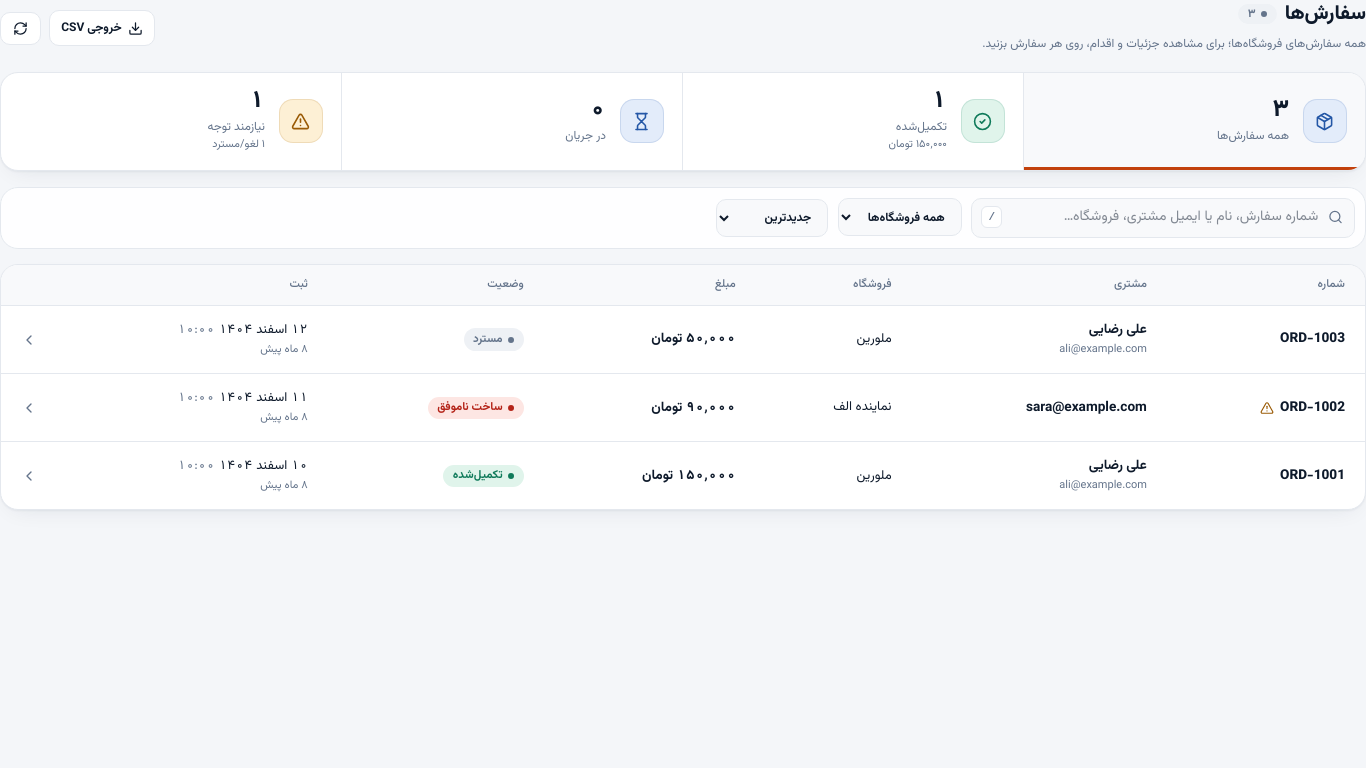
Test case: orders screen › offers only the actions the state machine allows
What coordinates should you click on to do the following:
click the text "ORD-1002"
I would click on:
 (1313, 408)
Its box is [1280,398,1345,418].
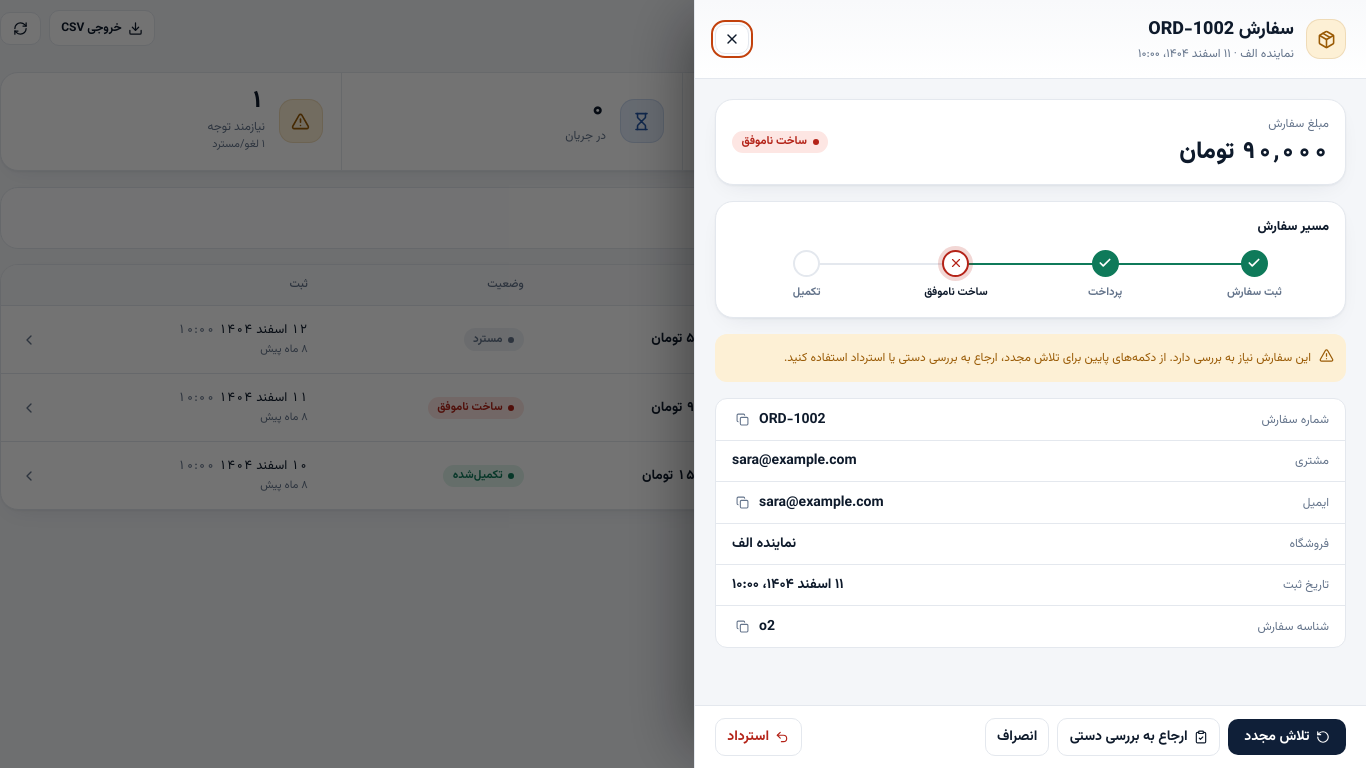
Now the button "تلاش مجدد" is shown, box [1228,719,1346,755]
Now the button "ارجاع به بررسی دستی" is shown, box [1058,718,1220,756]
Now the button "استرداد" is shown, box [715,718,802,756]
What coordinates should you click on to do the following:
click the button named "بستن"
I would click on:
 (732, 39)
Its box is [715,24,749,54].
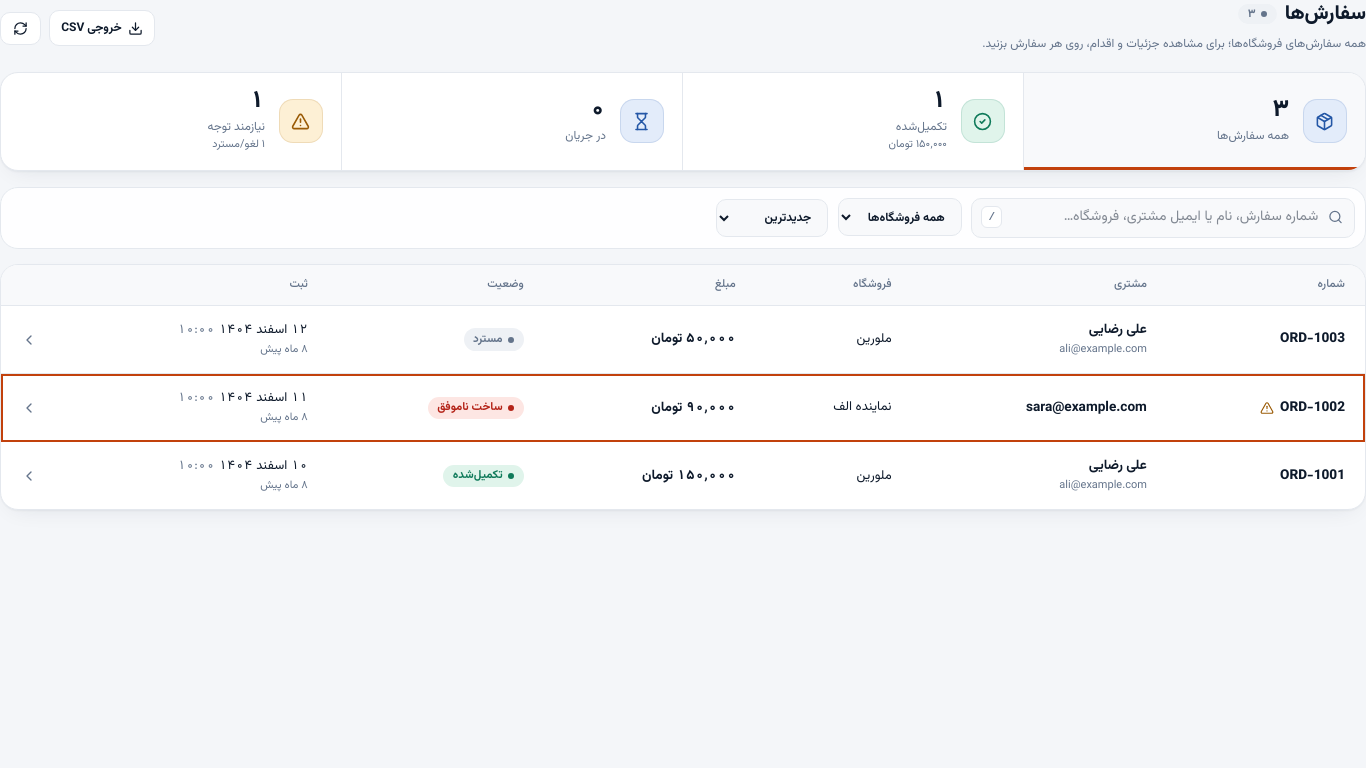
Now the dialog is gone
What coordinates should you click on to do the following:
click the text "ORD-1003"
I would click on:
 (1313, 340)
Its box is [1280,329,1345,350].
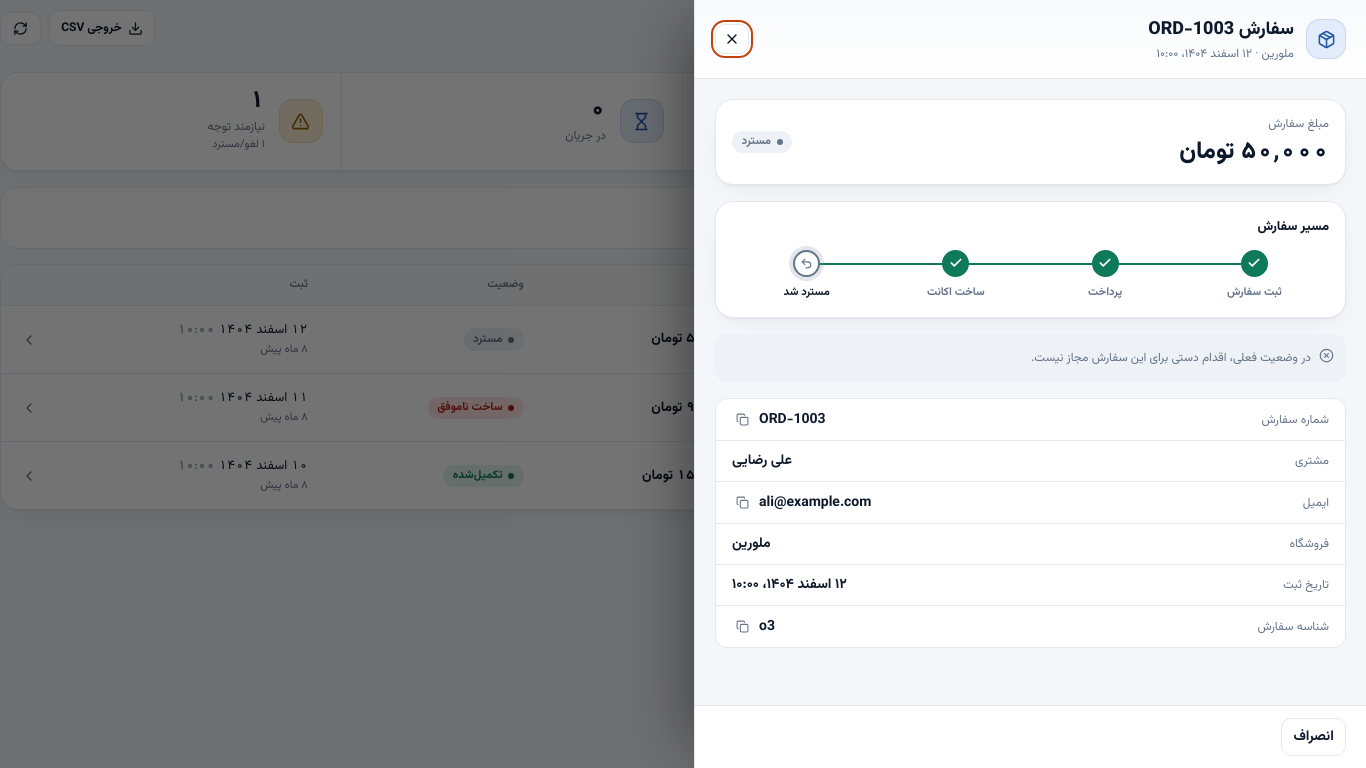
Expected: the button "تلاش مجدد" is not shown
Now the text "در وضعیت فعلی، اقدام دستی برای این سفارش مجاز نیست." is shown, box [715,334,1346,382]
